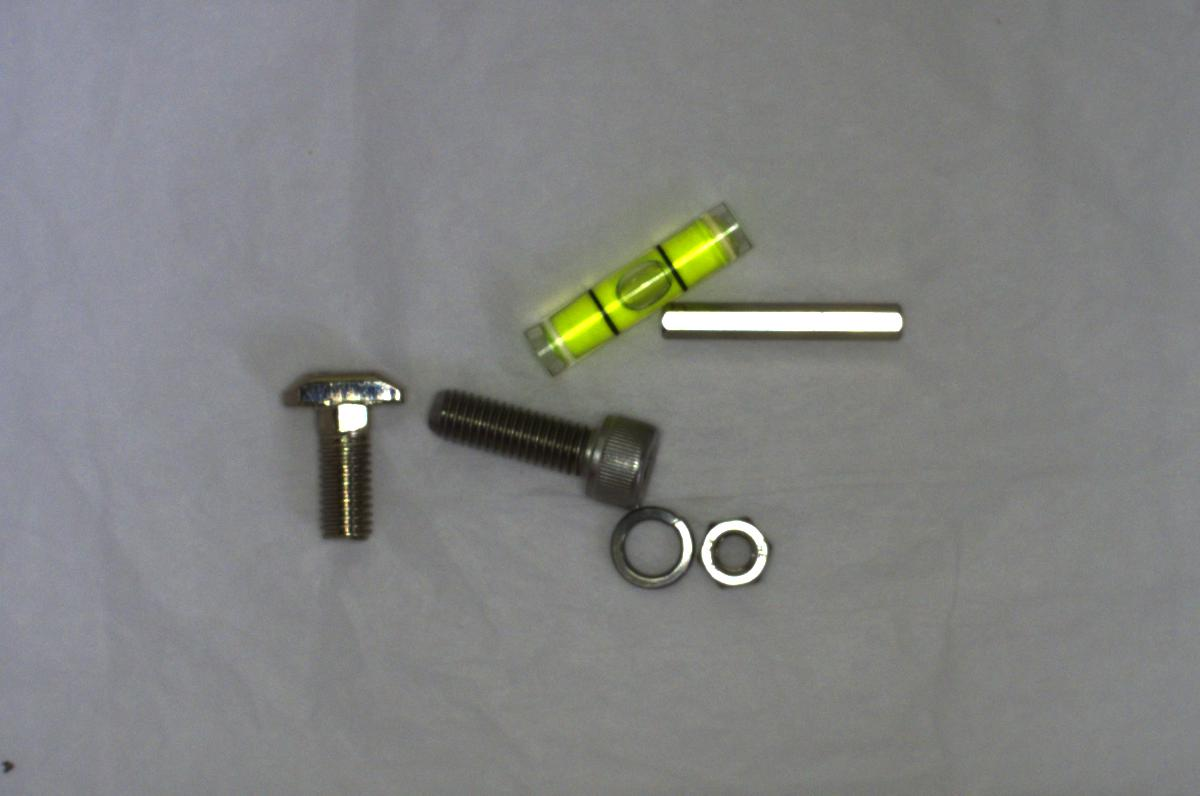Double hexagonal column: (651, 287, 914, 347)
Hexagon nut: (697, 512, 779, 595)
Hexagon screw: (422, 379, 671, 506)
Horizontal bubble: (528, 185, 757, 385)
Spring washer: (590, 500, 699, 589)
T-shaped screw: (284, 363, 401, 543)
